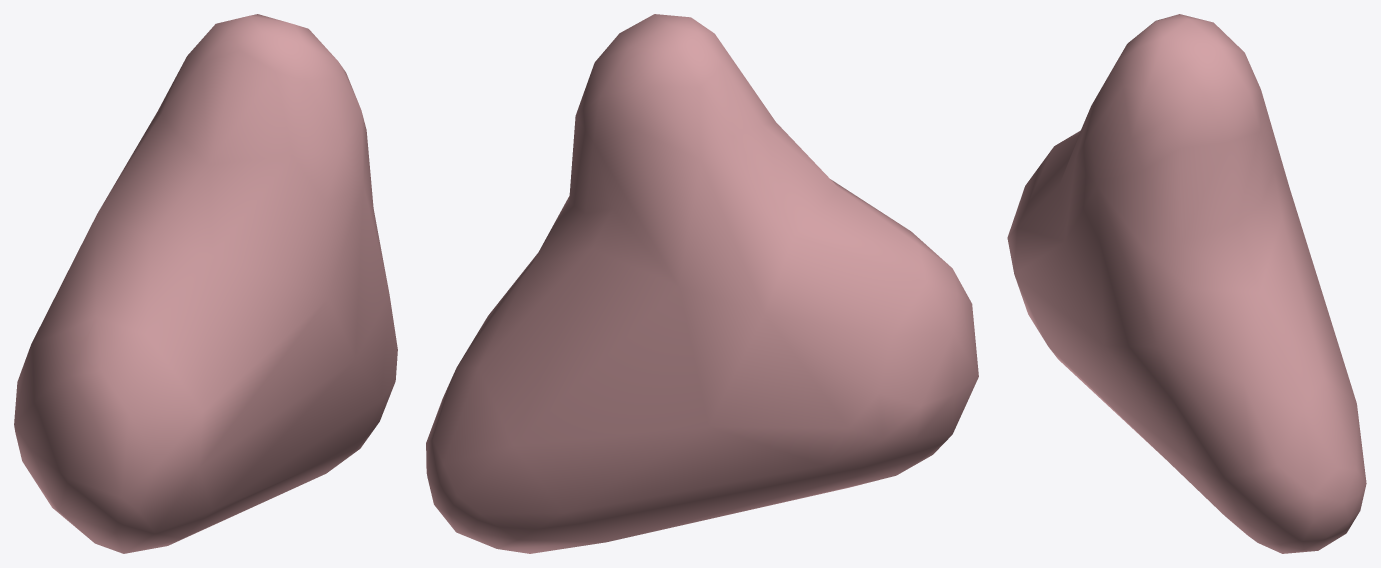
Rendered from fma59542_fj1301.glb.
3 views of the same model, side by side, from view 1: azimuth 30°, elevation 25°; view 2: azimuth 150°, elevation 25°; view 3: azimuth 270°, elevation 25° (orthographic). The views are drawn at different scales.
Visible parts, largest first — view 1: FMA59542_FJ1301; view 2: FMA59542_FJ1301; view 3: FMA59542_FJ1301.
Part boxes in pixels (x1,y1,x2,y2): FMA59542_FJ1301: [14, 14, 397, 553]; FMA59542_FJ1301: [426, 14, 978, 553]; FMA59542_FJ1301: [1007, 14, 1366, 553].
Bounding box in the file's own units: 0.00251 × 0.0028 × 0.0019.
